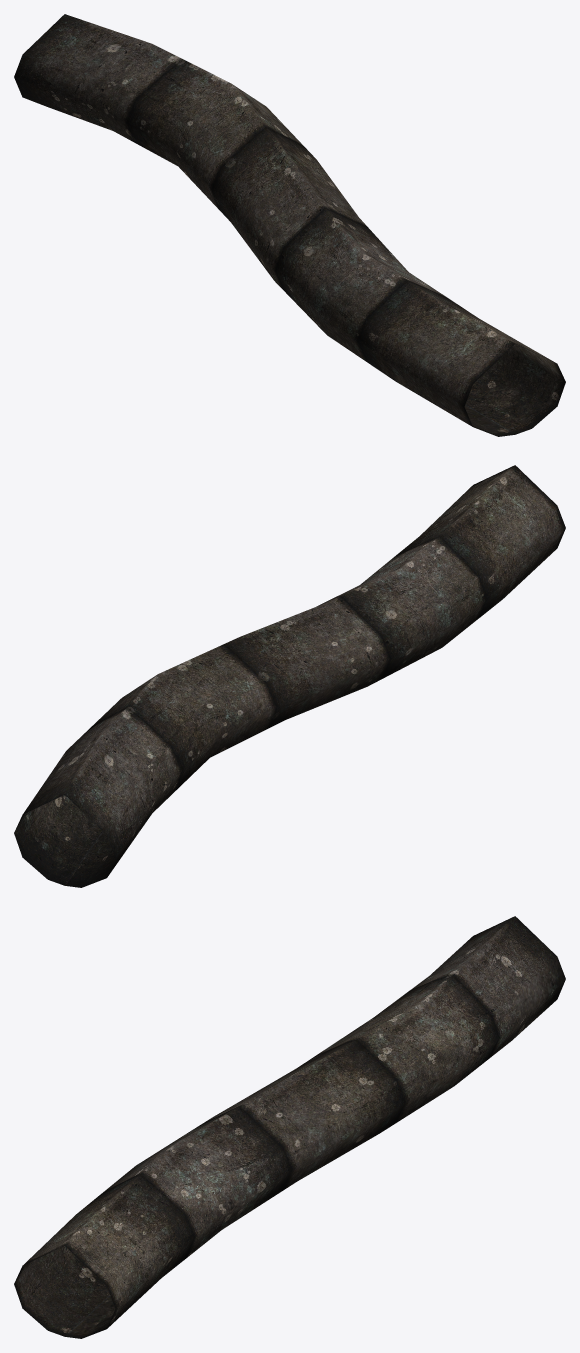
Rendered from large_irregular_long.dae.
3 views of the same model, one above another, from view 1: azimuth 30°, elevation 25°; view 2: azimuth 150°, elevation 25°; view 3: azimuth 330°, elevation 25° (orthographic).
Parts seen in each view (by area): view 1: tentacle_large_irregular_long; view 2: tentacle_large_irregular_long; view 3: tentacle_large_irregular_long.
Boxes of the visible parts, left/top/right/bottom form: tentacle_large_irregular_long: left=14, top=14, right=565, bottom=436; tentacle_large_irregular_long: left=14, top=465, right=565, bottom=887; tentacle_large_irregular_long: left=14, top=916, right=565, bottom=1338.
Size of the model in its own units: 0.7457 by 0.5277 by 4.
